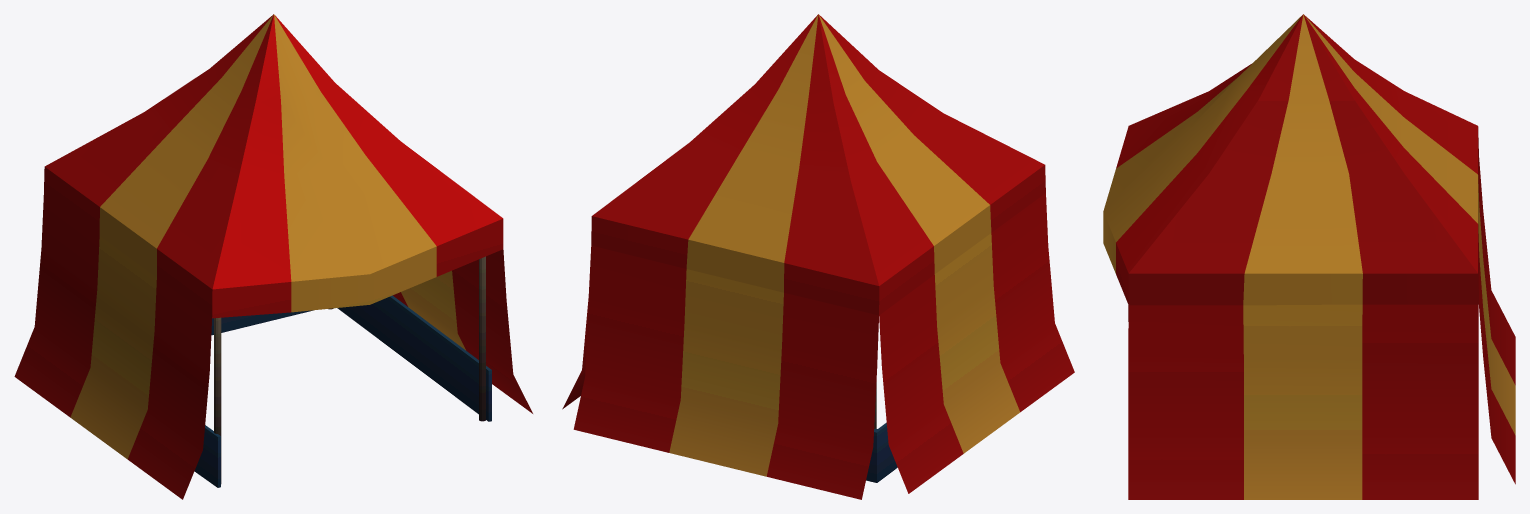
Rendered from SM_Booth.fbx.
3 renders of one model, left to right at view 1: azimuth 30°, elevation 25°; view 2: azimuth 150°, elevation 25°; view 3: azimuth 270°, elevation 25°, orthographic. The views are drawn at different scales.
Visible parts, largest first — view 1: Booth; view 2: Booth; view 3: Booth.
Boxes of the visible parts, box(x1,y1,x2,y2) form: Booth: box(14, 14, 532, 499); Booth: box(562, 14, 1074, 499); Booth: box(1103, 14, 1515, 499).
Bounding box in the file's own units: 373 × 388 × 365.
